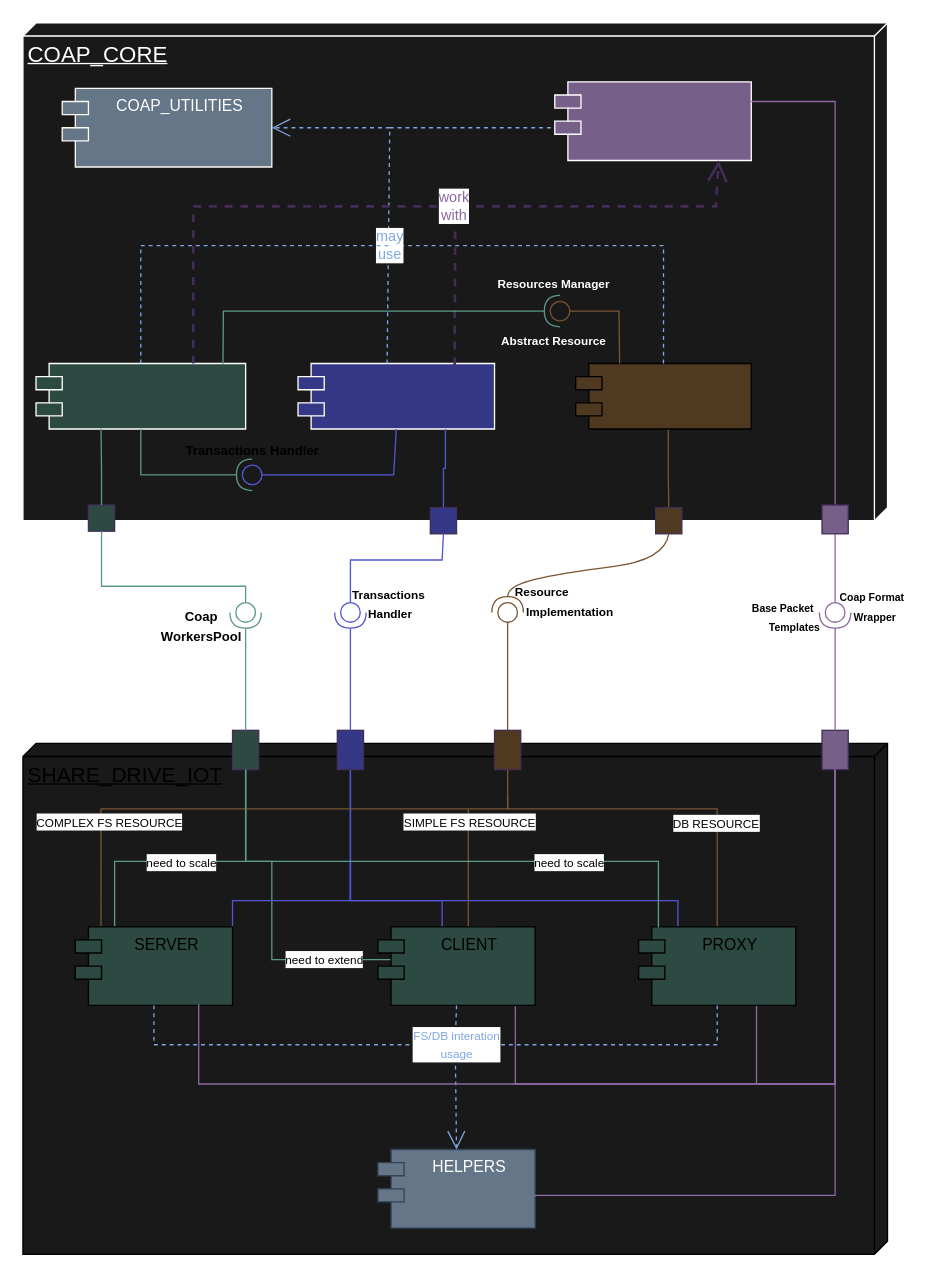
Some shapes in this 947 by 1277 pixel diagram are drawn without their labels. The shapes that lost their labels are listed below. From the top down, each one's box as (x1, y1, x2, y2) in pixels, then its label:
(553, 81, 751, 160): COAP_PACKET
(35, 362, 246, 429): COAP_WORKER
(297, 362, 495, 429): COAP_TRANSACTION
(574, 362, 751, 429): COAP_RESOURCE
